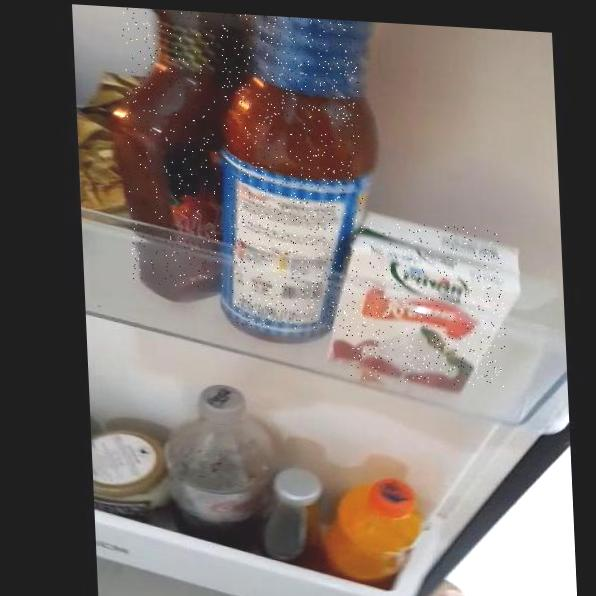cream: (341, 220, 508, 388)
sauce: (218, 13, 370, 333), (121, 7, 223, 289)
